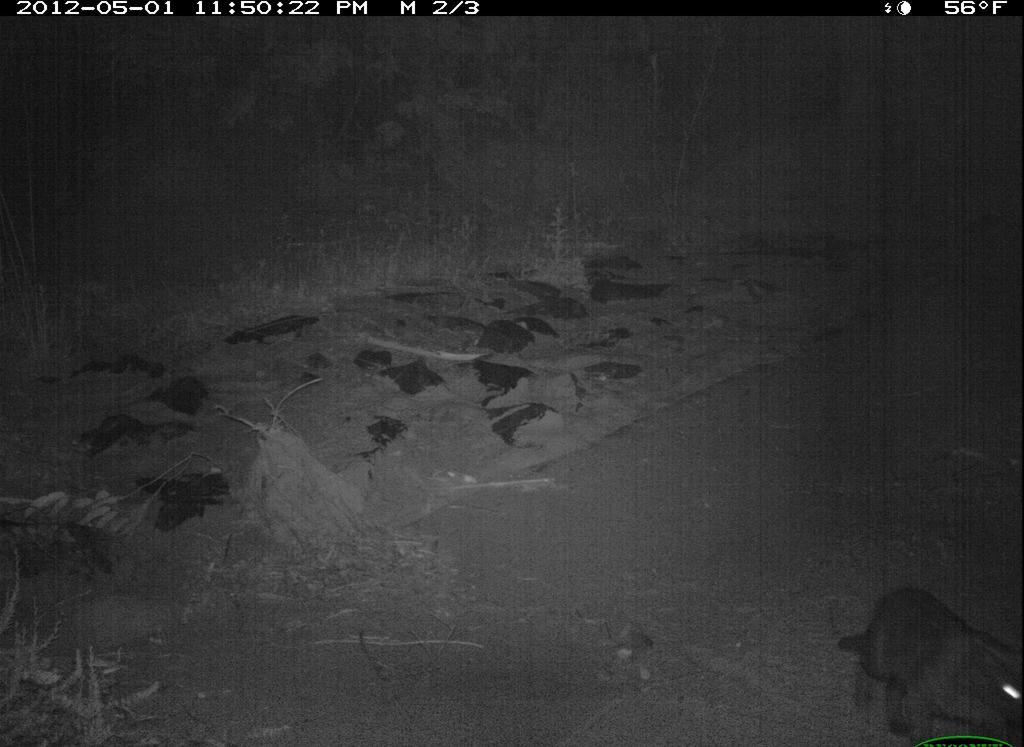cat: (825, 577, 1023, 740)
